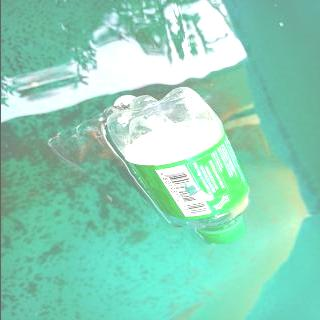bottle: (104, 86, 252, 245)
